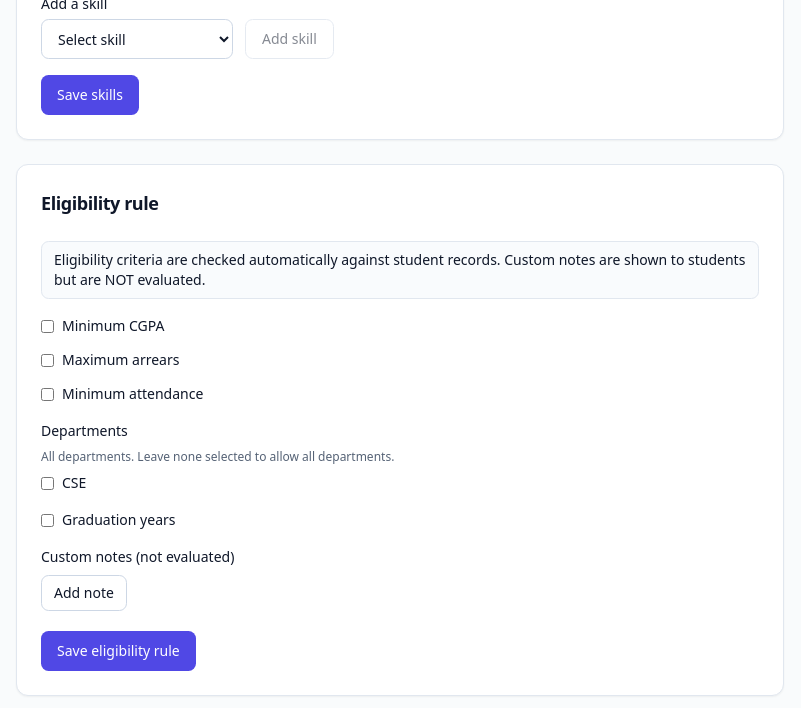
Scenario: AdminJobDetailPage › saves the eligibility rule and shows the 422 server message on failure
(page scrolled)
Click the checkbox labelled "Maximum arrears": [48, 360] box 41,354 -> 54,366
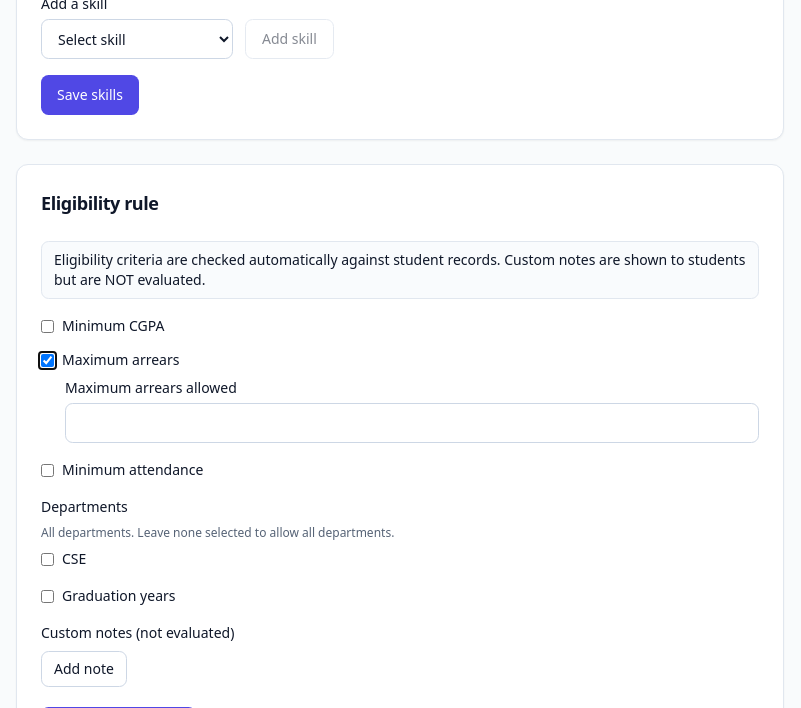
In the number field labelled "Maximum arrears allowed": [412, 423] box 65,403 -> 759,443, type "0"
(page scrolled)
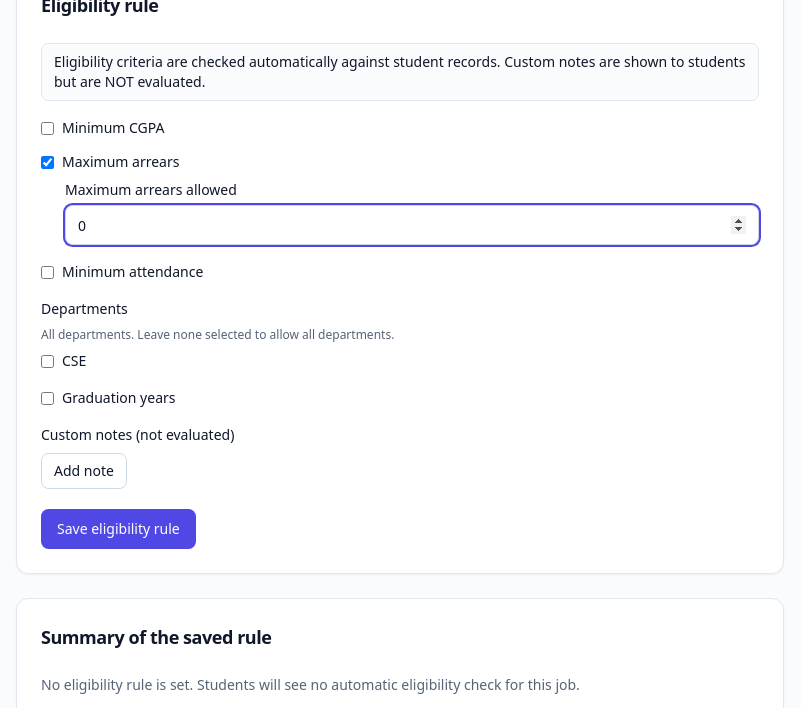
Click the button "Save eligibility rule": [118, 529] box 41,509 -> 196,549
(page scrolled)
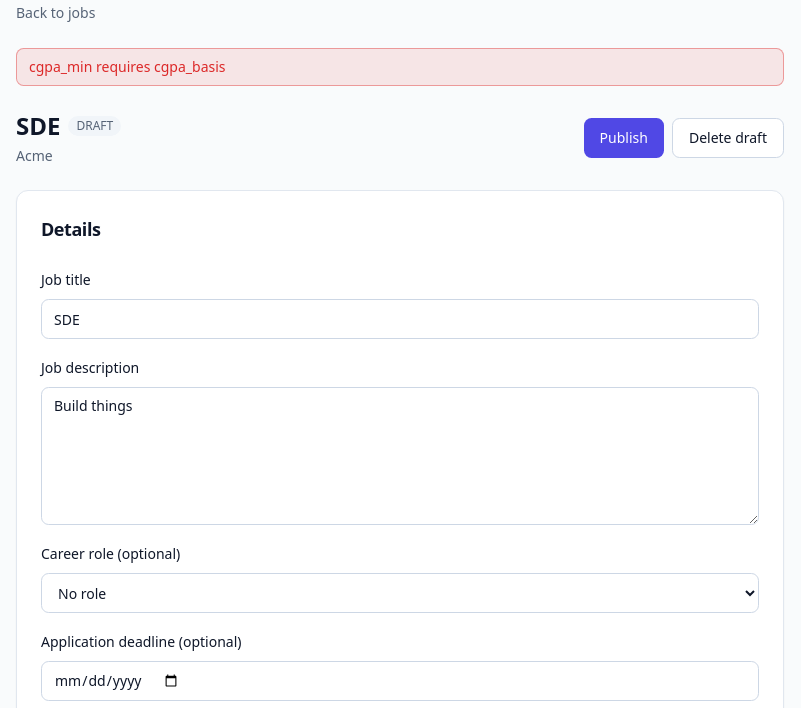
Check: the message reads "cgpa_min requires cgpa_basis", box 29,57 -> 226,76
